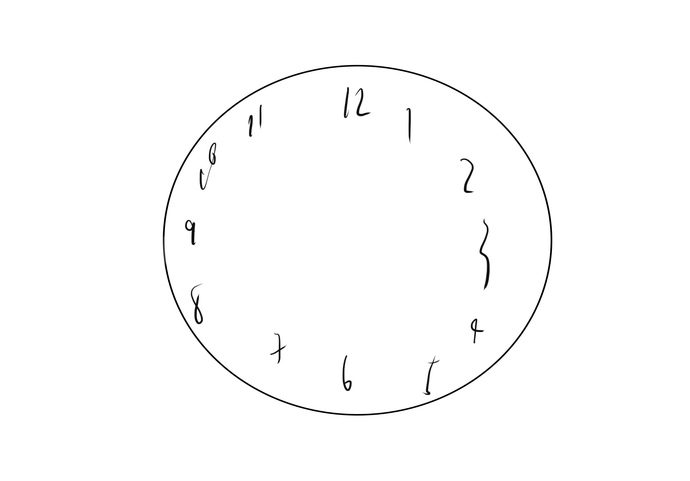eight: (185, 279, 206, 326)
eleven: (243, 108, 272, 145)
five: (422, 354, 438, 394)
four: (465, 312, 491, 342)
nine: (180, 211, 203, 245)
one: (399, 104, 424, 146)
seven: (266, 329, 295, 368)
six: (331, 346, 363, 395)
ten: (197, 146, 225, 190)
three: (473, 212, 495, 286)
twelve: (338, 84, 380, 126)
two: (450, 148, 484, 194)
